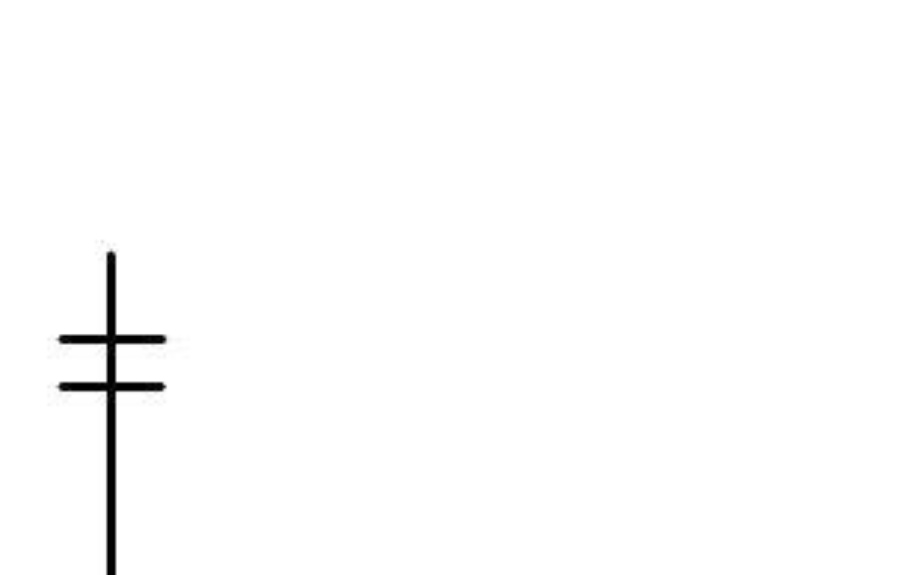115_buffer: (57, 334, 168, 391)
